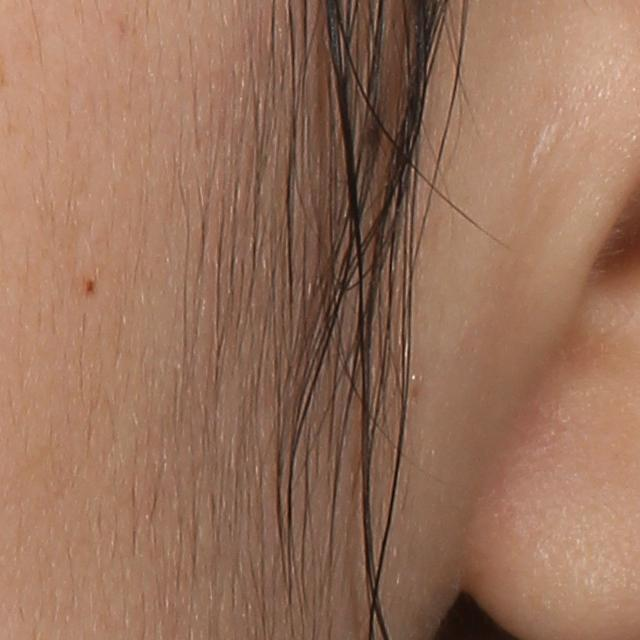nevus: (84, 276, 94, 303)
